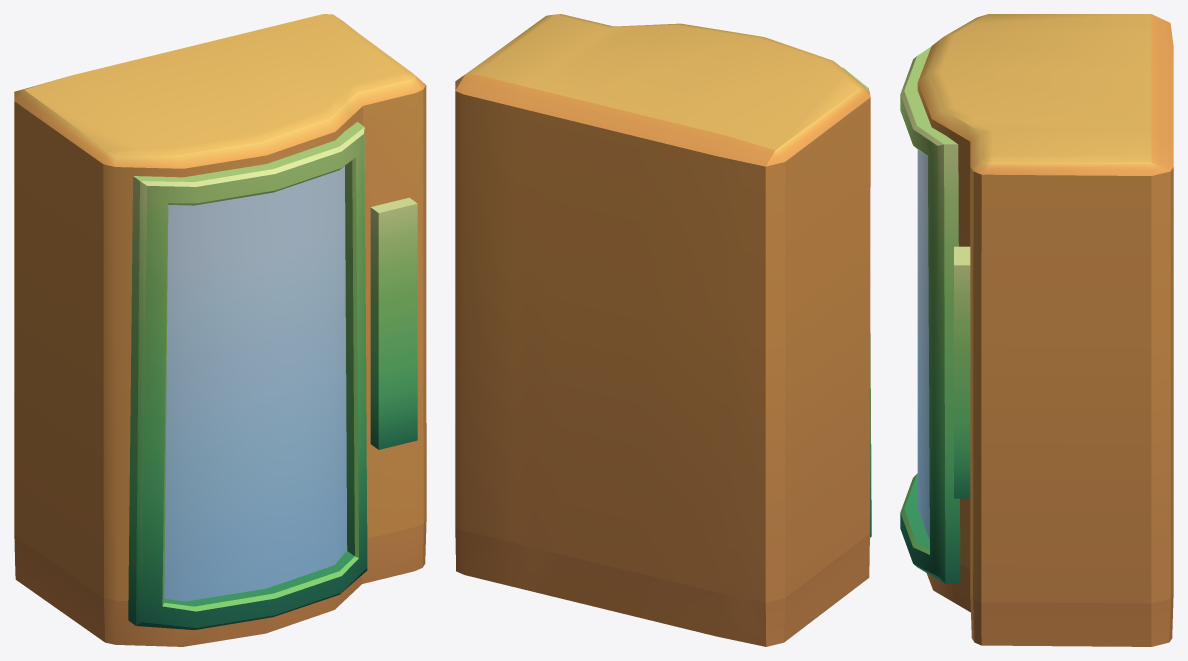
File: Vending_machine.fbx
3 views of the same model, side by side, from view 1: azimuth 30°, elevation 25°; view 2: azimuth 150°, elevation 25°; view 3: azimuth 270°, elevation 25° (orthographic). The views are drawn at different scales.
Parts seen in each view (by area): view 1: Vending_machine; view 2: Vending_machine; view 3: Vending_machine.
Part boxes in pixels (box(x1,y1,x2,y2)): Vending_machine: box(14, 14, 426, 646); Vending_machine: box(455, 14, 871, 646); Vending_machine: box(900, 14, 1173, 646).
Bounding box in the file's own units: 1.59 × 1.16 × 2.26.
